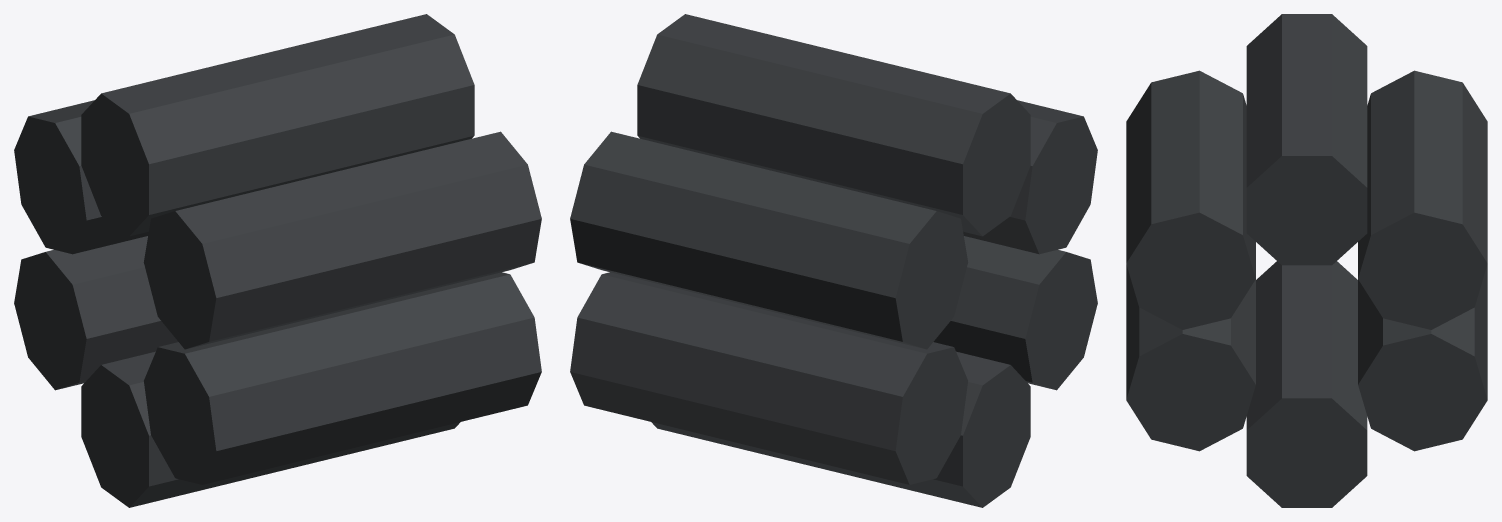
Rendered from HeavyWeapon1_02_2.fbx.
3 views of the same model, side by side, from view 1: azimuth 30°, elevation 25°; view 2: azimuth 150°, elevation 25°; view 3: azimuth 270°, elevation 25° (orthographic). The views are drawn at different scales.
Parts seen in each view (by area): view 1: HeavyWeapon1_02_2; view 2: HeavyWeapon1_02_2; view 3: HeavyWeapon1_02_2.
Part boxes in pixels (bbox=[...]): HeavyWeapon1_02_2: bbox=[14, 14, 541, 507]; HeavyWeapon1_02_2: bbox=[570, 14, 1097, 507]; HeavyWeapon1_02_2: bbox=[1126, 14, 1487, 507].
Size of the model in its own units: 0.129 by 0.1491 by 0.1388.
